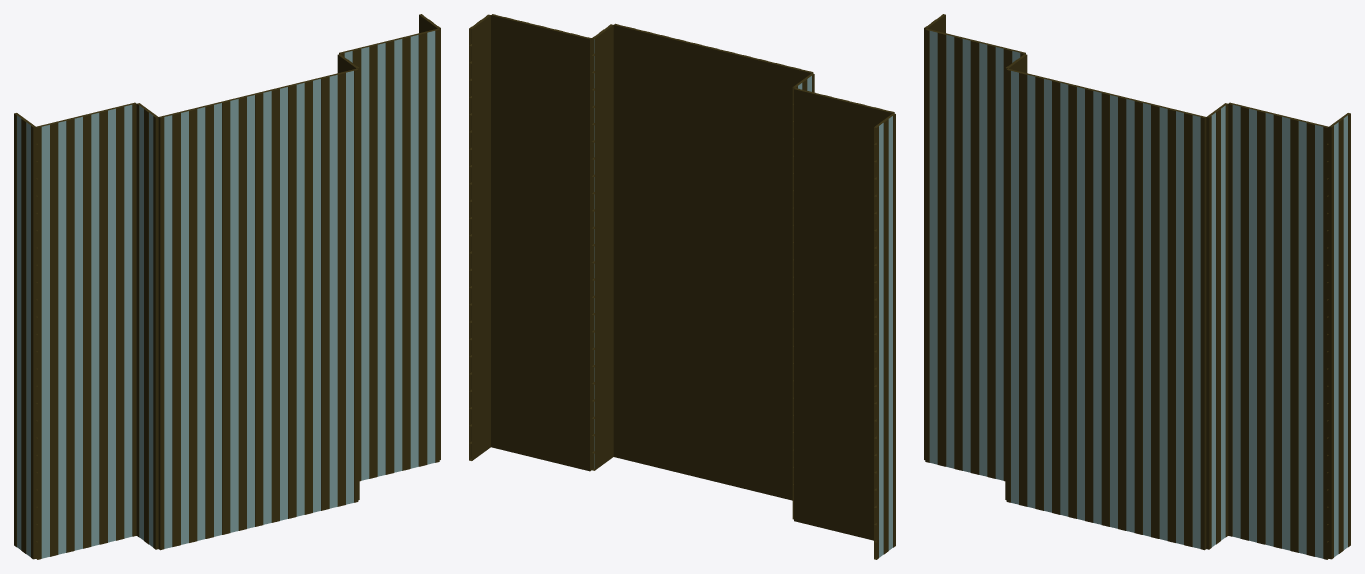
The model's file is MormonBuilding.fbx.
The picture shows the model from 3 angles, left to right: view 1: azimuth 30°, elevation 25°; view 2: azimuth 150°, elevation 25°; view 3: azimuth 330°, elevation 25°; orthographic projection.
Parts seen in each view (by area): view 1: pCube83, pCube76; view 2: pCube83, pCube76; view 3: pCube83, pCube76.
Boxes of the visible parts, <box> form: pCube83: <box>14,14,440,559</box>; pCube76: <box>337,54,359,500</box>; pCube83: <box>469,14,895,559</box>; pCube76: <box>591,24,613,470</box>; pCube83: <box>924,14,1350,559</box>; pCube76: <box>1206,103,1228,549</box>.
Bounding box in the file's own units: 247 × 250 × 43.41.
